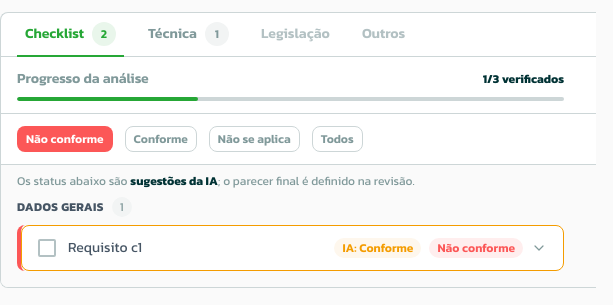
PainelRevisao › alterna livremente para a aba Técnica ao clicar
The image size is (613, 305).
Click the tab "Técnica 1": click(188, 35) [140, 13, 237, 57]
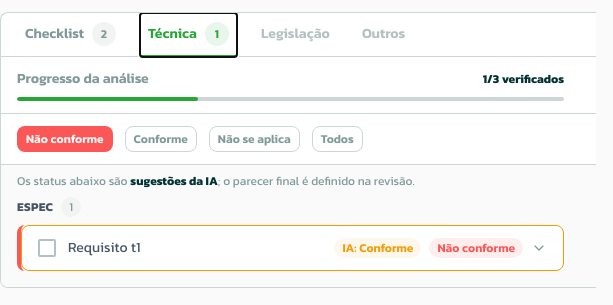
Expected: the text "Requisito t1" is shown, [68, 237, 140, 258]
Expected: the button "Requisito c1" is gone
